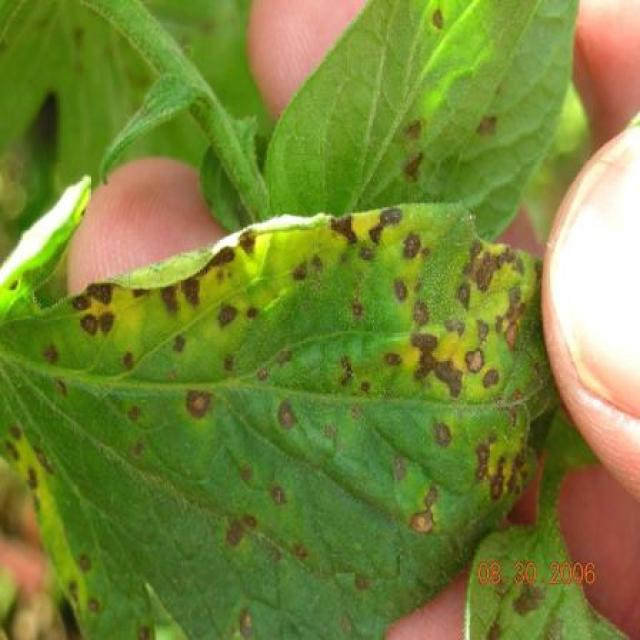Septoria: (2, 187, 555, 640), (251, 0, 584, 236)
